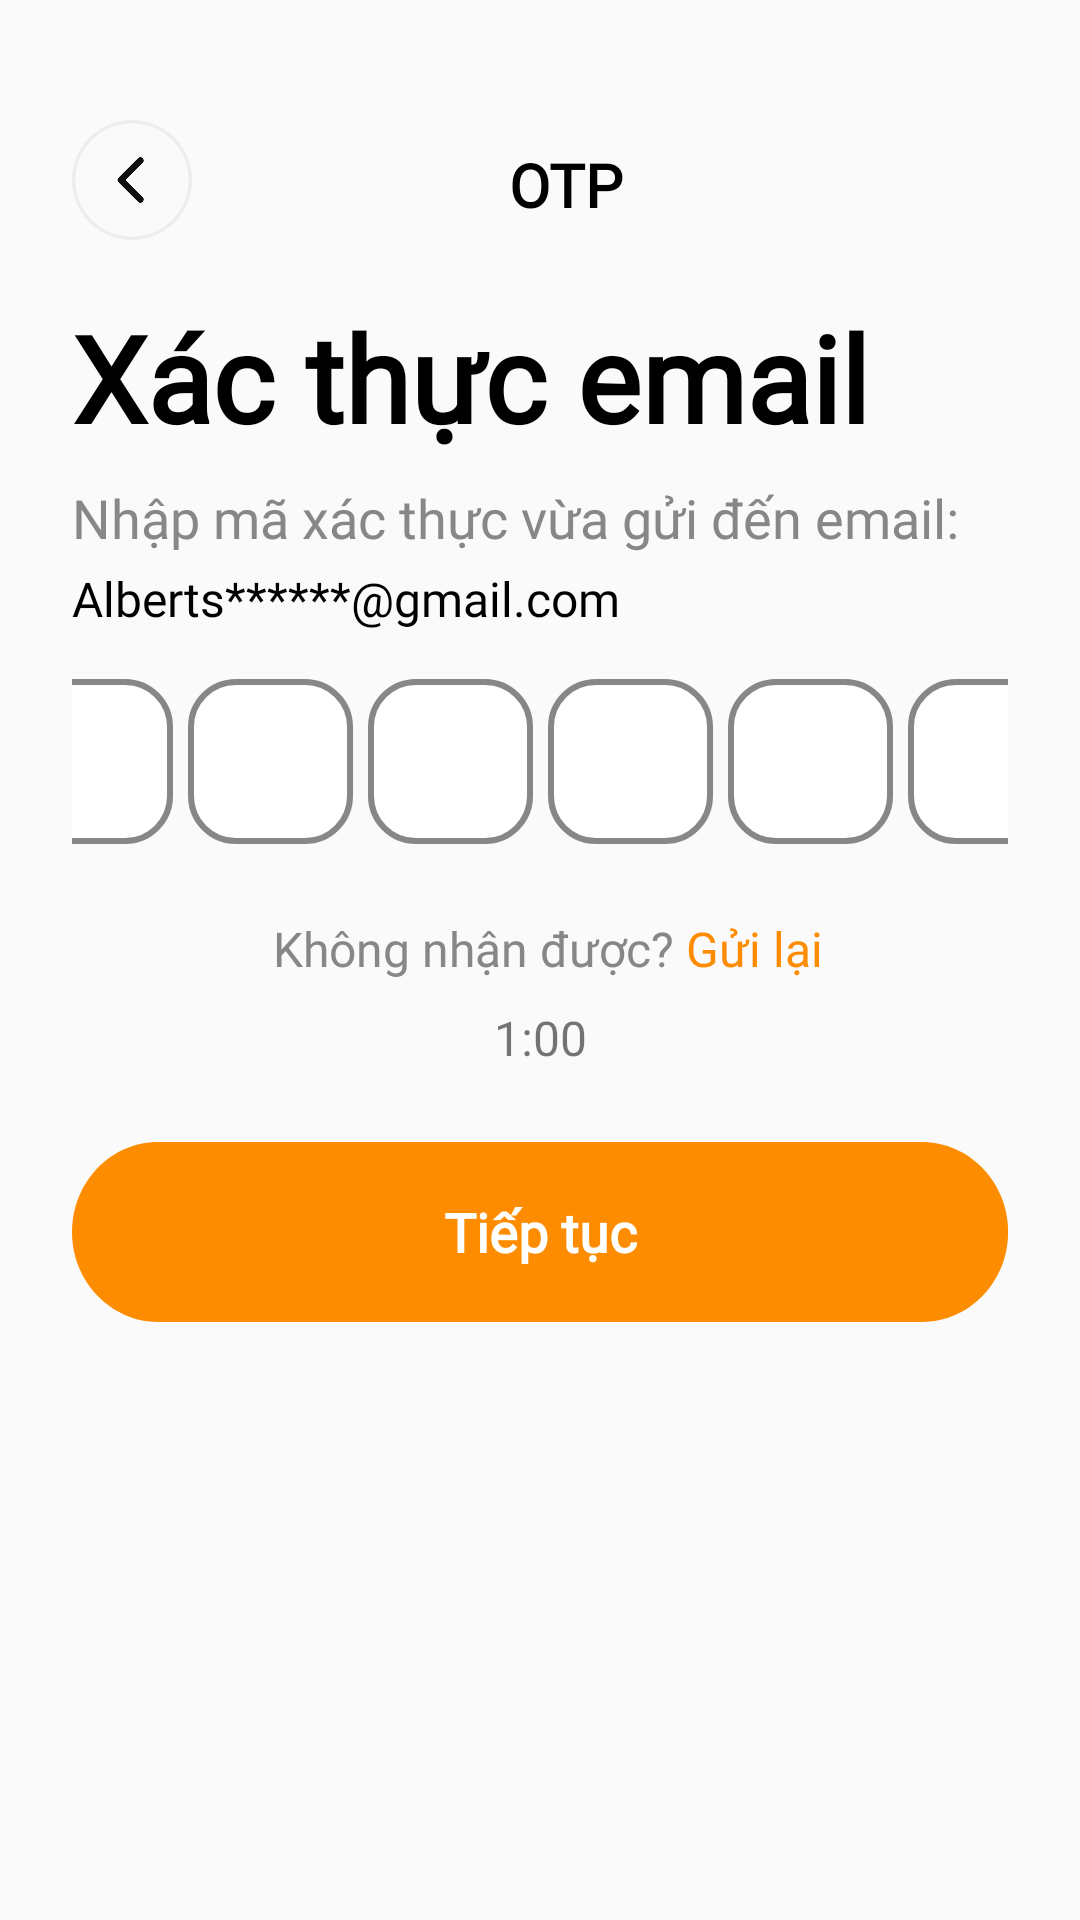

Screen size 1080x1920. Icon name, then its box in pixels as Rect(x1, y1, x2, y2):
back: Rect(117, 157, 144, 203)
